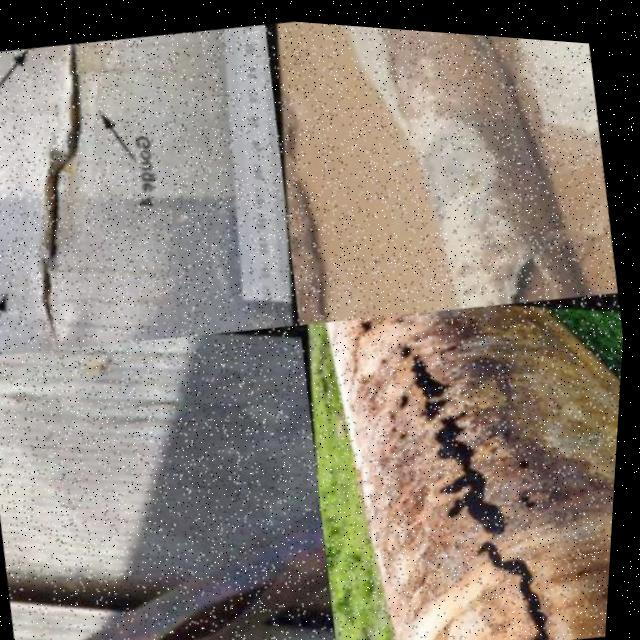crack: (31, 43, 85, 348), (151, 561, 309, 640)
hole: (468, 514, 574, 626), (425, 442, 530, 542), (428, 390, 500, 467), (403, 345, 458, 397), (432, 322, 471, 362), (418, 380, 456, 417), (388, 374, 423, 409), (388, 324, 425, 357), (517, 471, 546, 501), (354, 310, 385, 334), (512, 435, 538, 462), (396, 414, 417, 437), (391, 307, 412, 322), (380, 345, 397, 362), (411, 322, 426, 336), (389, 414, 404, 427), (387, 402, 402, 413)
rupture: (492, 208, 598, 302)
